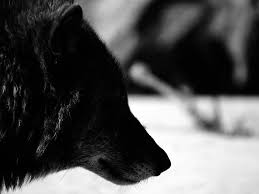Lobo: (2, 4, 178, 187)
